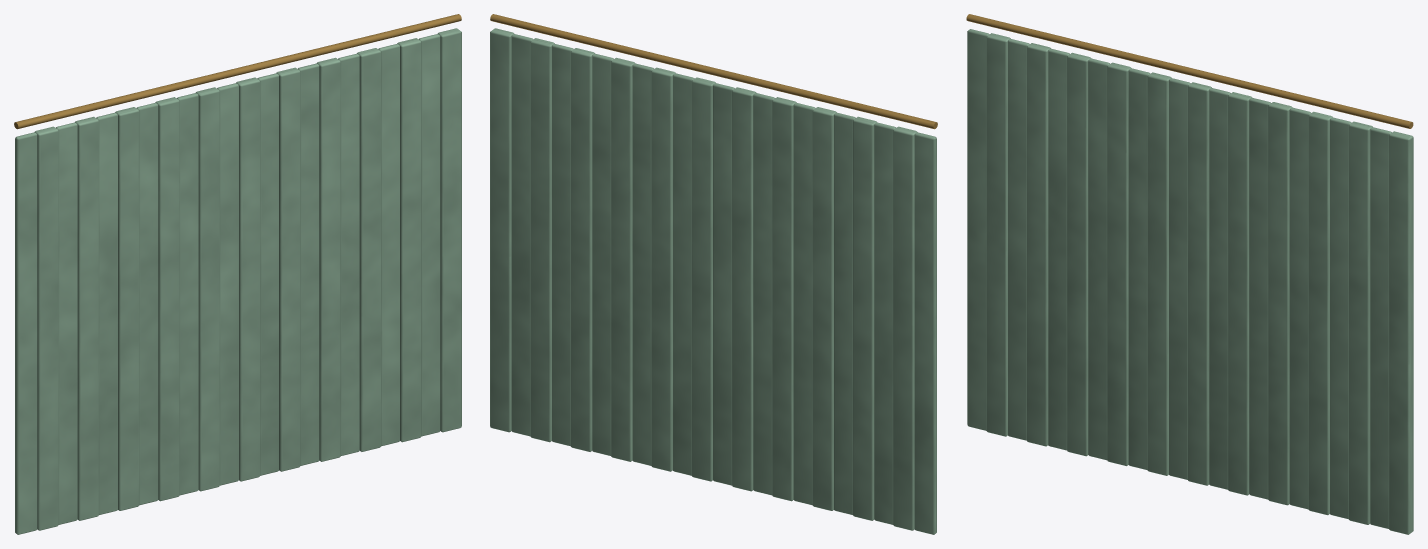
File: Furn_Curtain.fbx
3 renders of one model, left to right at view 1: azimuth 30°, elevation 25°; view 2: azimuth 150°, elevation 25°; view 3: azimuth 330°, elevation 25°, orthographic.
Visible parts, largest first — view 1: Furn_Curtain_Mesh; view 2: Furn_Curtain_Mesh; view 3: Furn_Curtain_Mesh.
Boxes of the visible parts, box(x1,y1,x2,y2) form: Furn_Curtain_Mesh: box(14, 14, 461, 534); Furn_Curtain_Mesh: box(490, 14, 937, 534); Furn_Curtain_Mesh: box(966, 14, 1413, 534).
Bounding box in the file's own units: 2.2 × 1.95 × 0.05.
